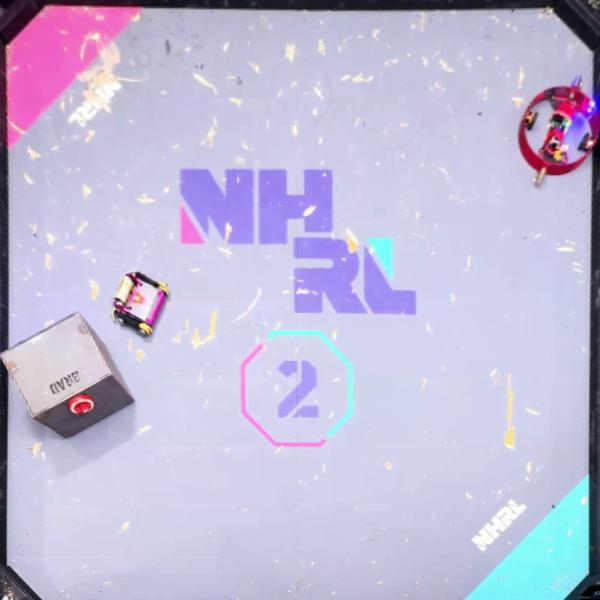housebot: (0, 309, 135, 439)
robot: (518, 74, 600, 187), (112, 271, 170, 337)
